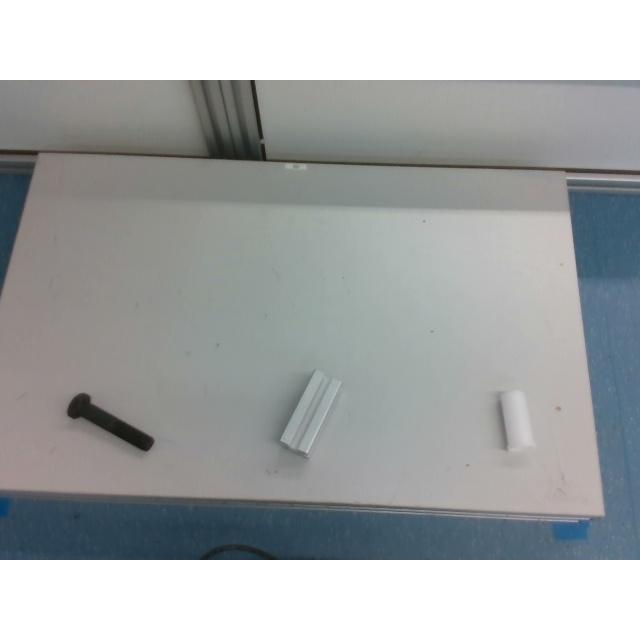M20_100: (67, 393, 153, 451)
S40_40_G: (280, 370, 340, 458)
Spacer: (499, 390, 535, 452)
